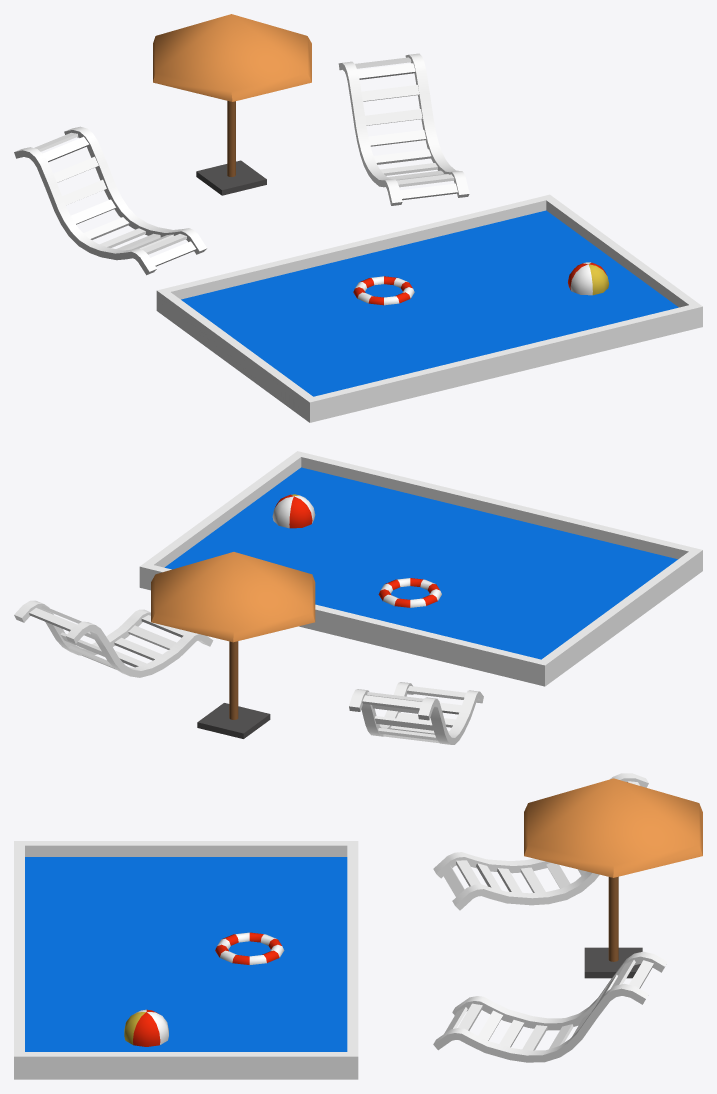
The model's file is Swimming Pool_1.fbx.
The picture shows the model from 3 angles, top to bottom: view 1: azimuth 30°, elevation 25°; view 2: azimuth 150°, elevation 25°; view 3: azimuth 270°, elevation 25°; orthographic projection. The views are drawn at different scales.
Parts seen in each view (by area): view 1: Swimming Pool_1; view 2: Swimming Pool_1; view 3: Swimming Pool_1.
Part boxes in pixels (<box>): Swimming Pool_1: <box>14,14,702,422</box>; Swimming Pool_1: <box>14,451,702,744</box>; Swimming Pool_1: <box>14,773,702,1079</box>.
Size of the model in its own units: 718 by 282 by 933.
